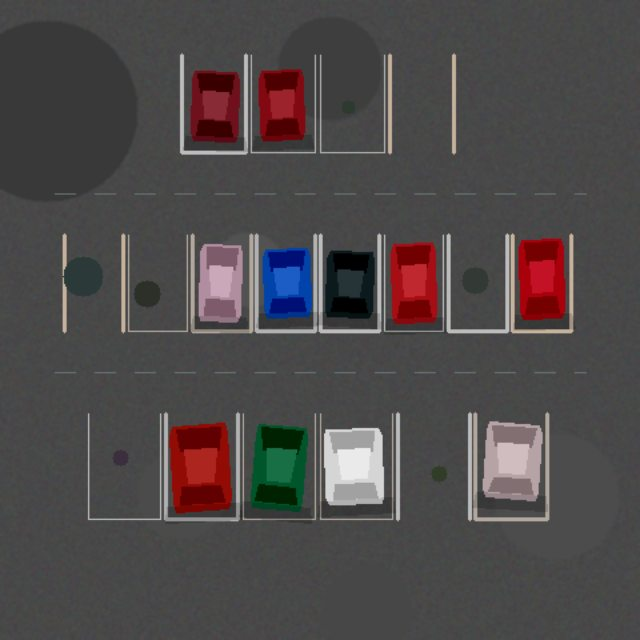space-empty: (88, 413, 160, 519), (397, 413, 469, 519), (320, 55, 384, 152), (389, 55, 453, 152), (64, 235, 123, 331), (128, 235, 187, 331), (448, 235, 507, 331)
space-occupied: (165, 413, 237, 519), (243, 413, 315, 519), (320, 413, 392, 519), (475, 413, 547, 519), (181, 55, 245, 152), (251, 55, 315, 152), (192, 235, 251, 331), (256, 235, 315, 331), (320, 235, 379, 331), (384, 235, 443, 331), (512, 235, 571, 331)
